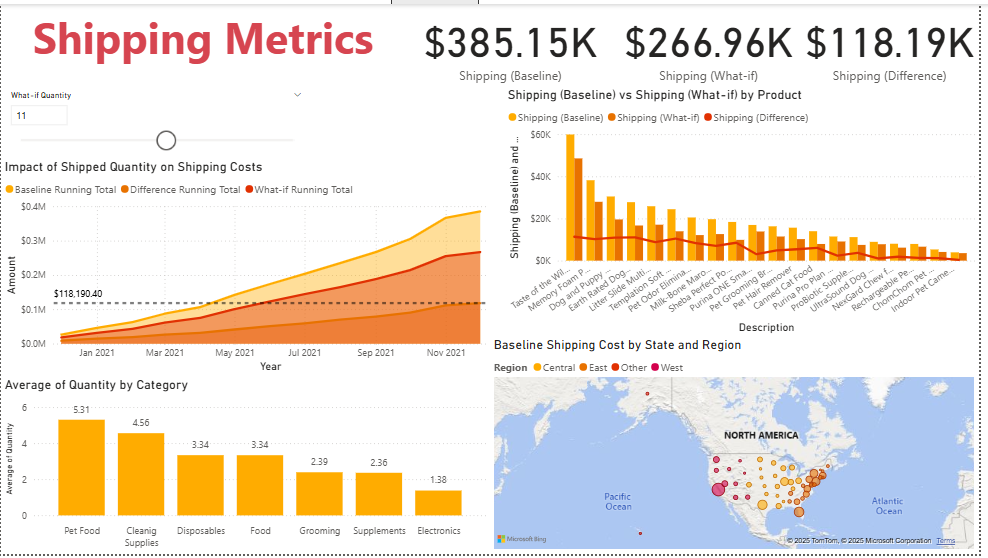

This screenshot's page, from the dashboard's own definition file:
{"tool":"powerbi","page":{"name":"Shipping Metrics","canvas":[1280,720],"ordinal":7},"visuals":[{"type":"card","fields":{"Values":["Sales.Shipping (Baseline)"]},"box":[529,0,276.2,108.7],"z":0},{"type":"card","fields":{"Values":["Sales.Shipping (What-if)"]},"box":[805.2,0,242.4,108.7],"z":1000},{"type":"card","fields":{"Values":["Sales.Shipping (Difference)"]},"box":[1047.7,0,232.2,108.7],"z":2000},{"type":"slicer","fields":{"Values":["What-if Quantity.What-if Quantity"]},"box":[0,108.7,405.6,94],"z":3000},{"type":"lineClusteredColumnComboChart","title":"Shipping (Baseline) vs Shipping (What-if) by Product","fields":{"Category":["Sales.Description"],"Y":["Sales.Shipping (Baseline)","Sales.Shipping (What-if)"],"Y2":["Sales.Shipping (Difference)"]},"box":[658.3,108.7,621.6,327.7],"z":4000},{"type":"areaChart","title":"Impact of Shipped Quantity on Shipping Costs","fields":{"Y":["Sales.Baseline Running Total","Sales.Difference Running Total","Sales.What-if Running Total"],"Category":["Sales.Transaction Date.Variation.Date Hierarchy.Year","Sales.Transaction Date.Variation.Date Hierarchy.Month"]},"box":[0,202.8,658.3,285.1],"z":5000},{"type":"clusteredColumnChart","fields":{"Category":["Products.Category"],"Y":["Avg(Sales.Quantity)"]},"box":[0,487.8,640.7,232.2],"z":6000},{"type":"map","title":"Baseline Shipping Cost by State and Region","fields":{"Series":["State Mapping.Region"],"Category":["State Mapping.State"],"Size":["Sales.Shipping (Baseline)"]},"box":[640.7,436.4,639.2,283.6],"z":7000},{"type":"textbox","box":[0,0,529,108.7],"z":8000}]}

Visuals, with their boxes in screenshot pixels (x1, y1, x2, y2), scaled from the page's 1280x720 canvas onto the 988x558 screenshot:
card - Sales.Shipping (Baseline): x1=408, y1=0, x2=622, y2=84
card - Sales.Shipping (What-if): x1=622, y1=0, x2=809, y2=84
card - Sales.Shipping (Difference): x1=809, y1=0, x2=987, y2=84
slicer - What-if Quantity.What-if Quantity: x1=0, y1=84, x2=313, y2=157
"Shipping (Baseline) vs Shipping (What-if) by Product" lineClusteredColumnComboChart: x1=508, y1=84, x2=987, y2=338
"Impact of Shipped Quantity on Shipping Costs" areaChart: x1=0, y1=157, x2=508, y2=378
clusteredColumnChart - Products.Category x Avg(Sales.Quantity): x1=0, y1=378, x2=495, y2=557
"Baseline Shipping Cost by State and Region" map: x1=495, y1=338, x2=987, y2=557
textbox: x1=0, y1=0, x2=408, y2=84
